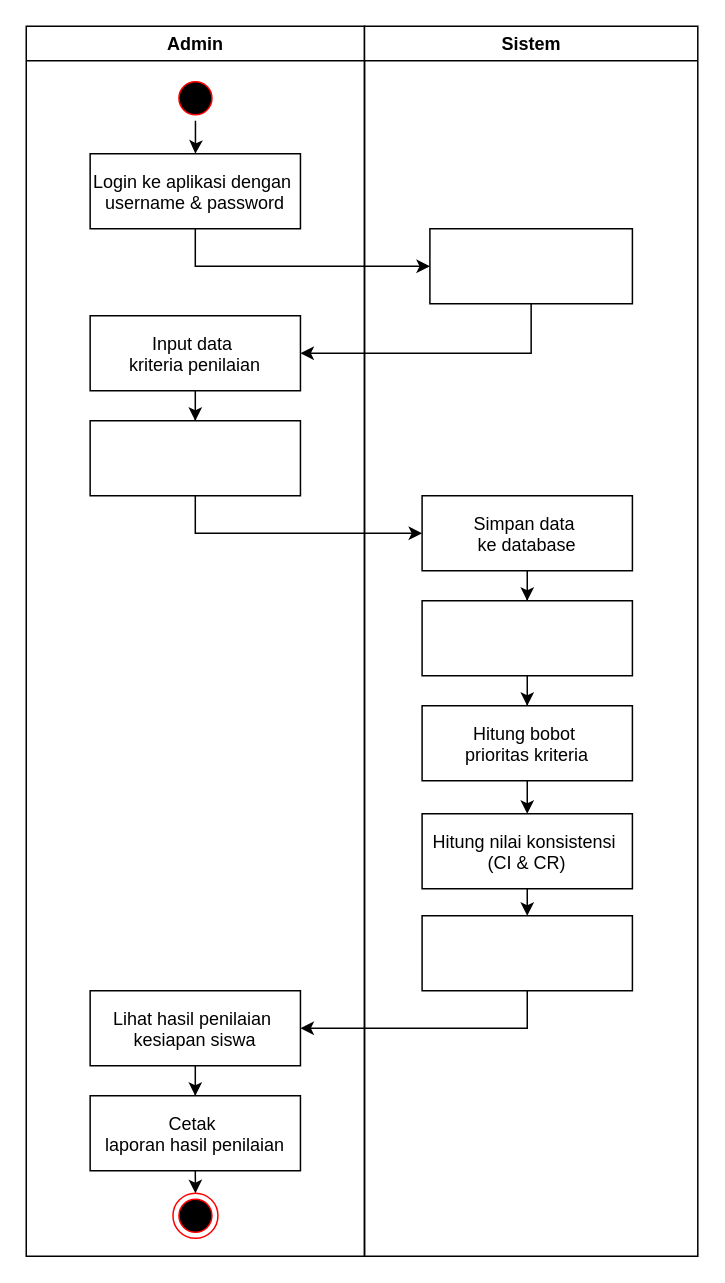
Image size: 725x1283. Some labels were removed from this diagram. The centre of each missing label's shape, as x and y in pixels:
"Hitung skor akhir tiap siswa berdasarkan bobot kriteria" goes at [526,952].
"Input data siswa (alternatif)" goes at [194,457].
"Proses perhitungan AHP (matriks perbandingan berpasangan)" goes at [526,637].
"Verifikasi login dan tampilkan dashboard" goes at [530,265].
